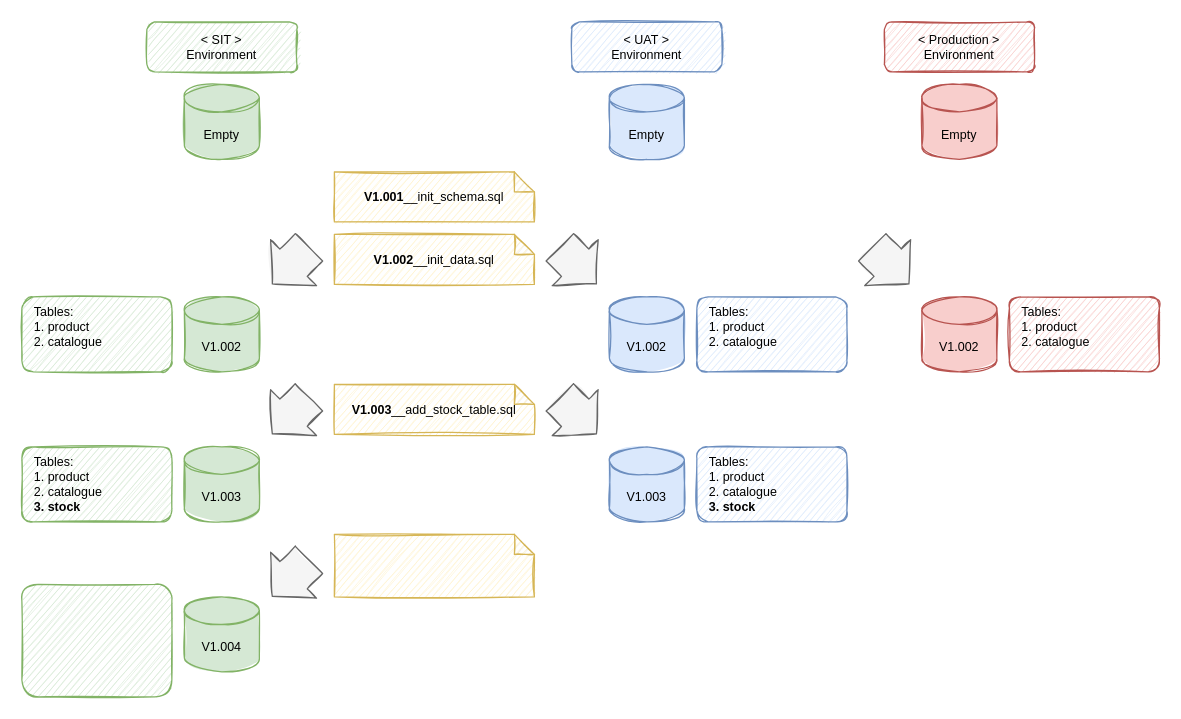
Some shapes in this 1181 by 719 pixel diagram are drawn without their labels. Each missing label, with the box of its shape:
Tables: 1. product 2. catalogue 3. stock - last_update_by - last_modified_date: (21, 583, 172, 697)
V1.004 __add_auditing_ columns_to_stock_table.sql: (333, 533, 534, 597)
